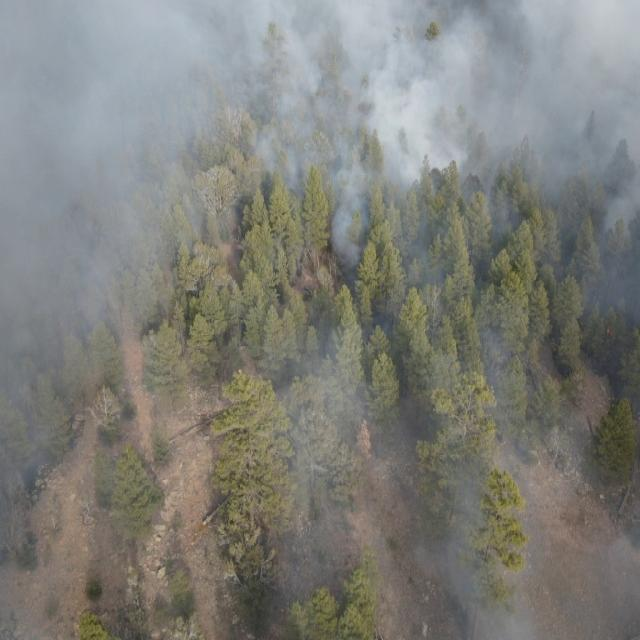fire: (597, 320, 619, 340), (146, 362, 156, 398)
smoke: (280, 269, 640, 640), (146, 0, 640, 268), (0, 0, 146, 640)
